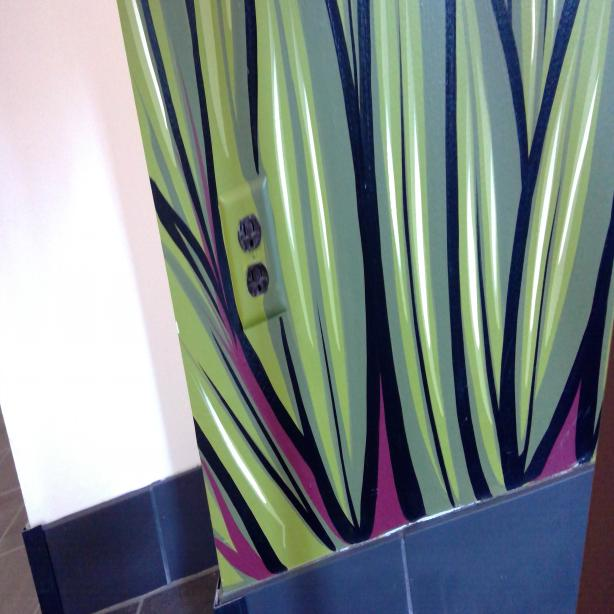typeb: (246, 264, 269, 300), (238, 215, 260, 252)
